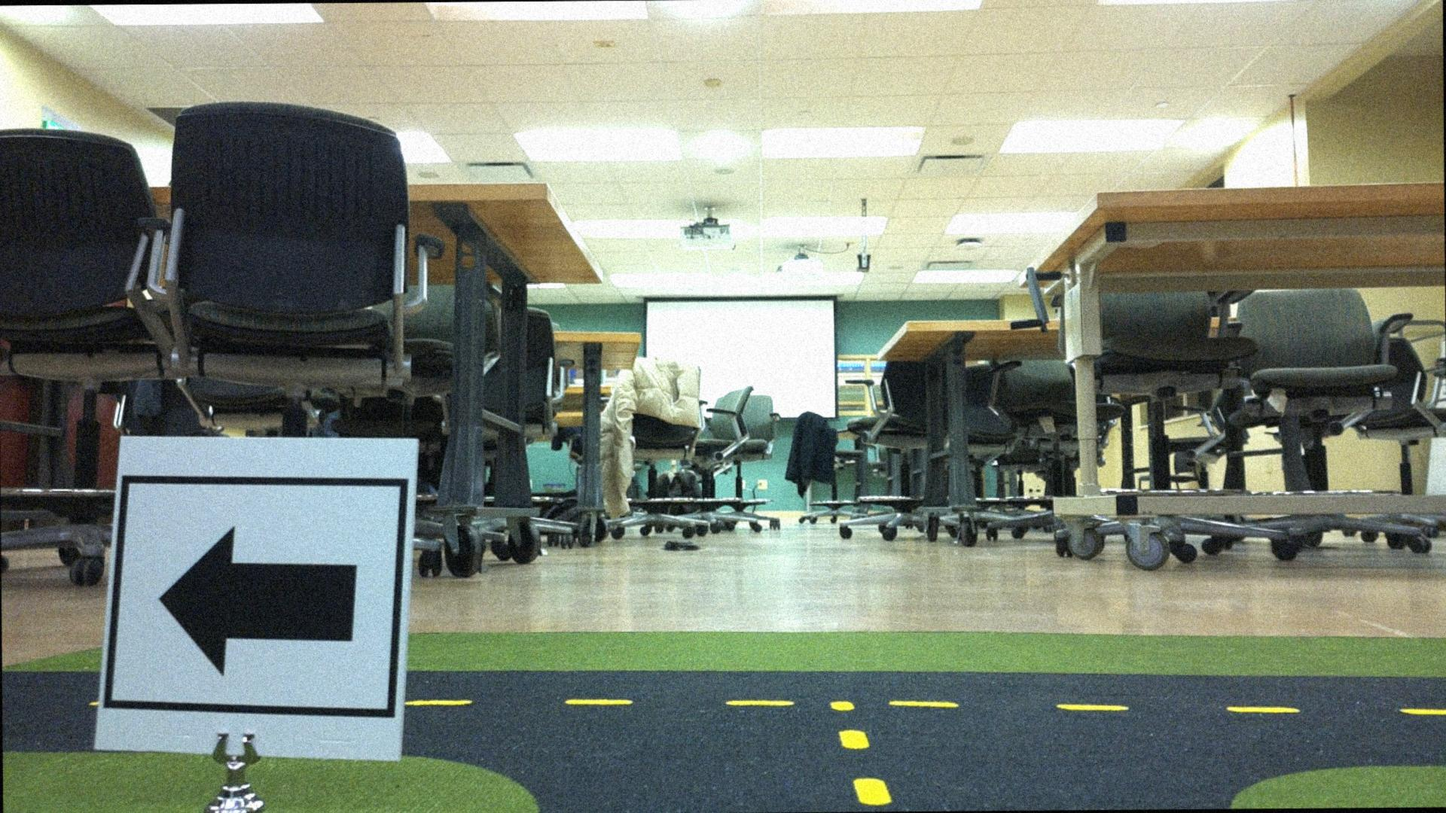turnleft: (120, 444, 404, 754)
yellowline: (409, 687, 1445, 727), (828, 697, 895, 805)
